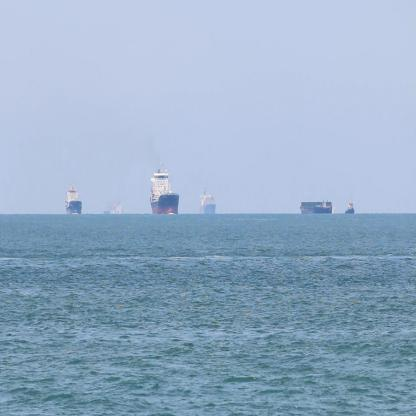Container Ship: (149, 159, 182, 218), (66, 176, 85, 218), (299, 196, 337, 216), (199, 182, 219, 217), (344, 199, 359, 216)
